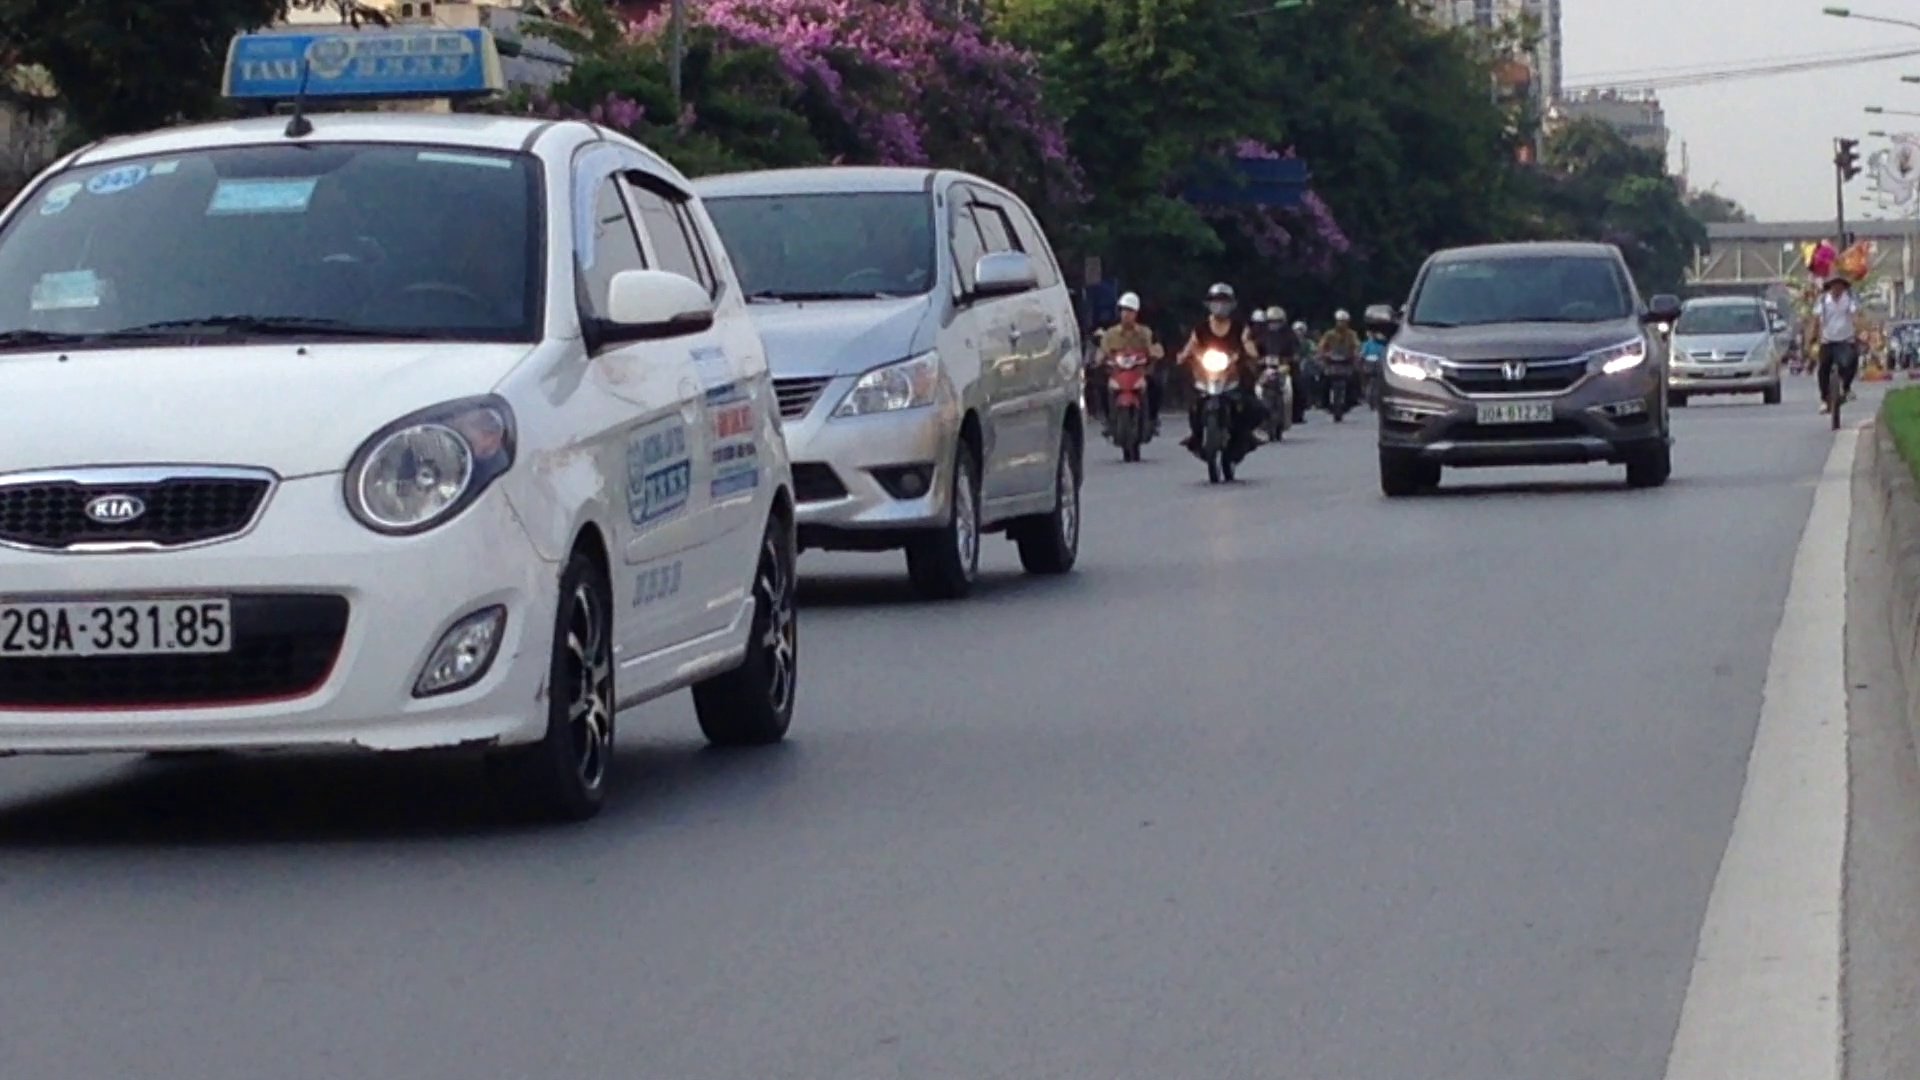vehicle-plate: (1, 597, 233, 657), (1471, 398, 1557, 425)
